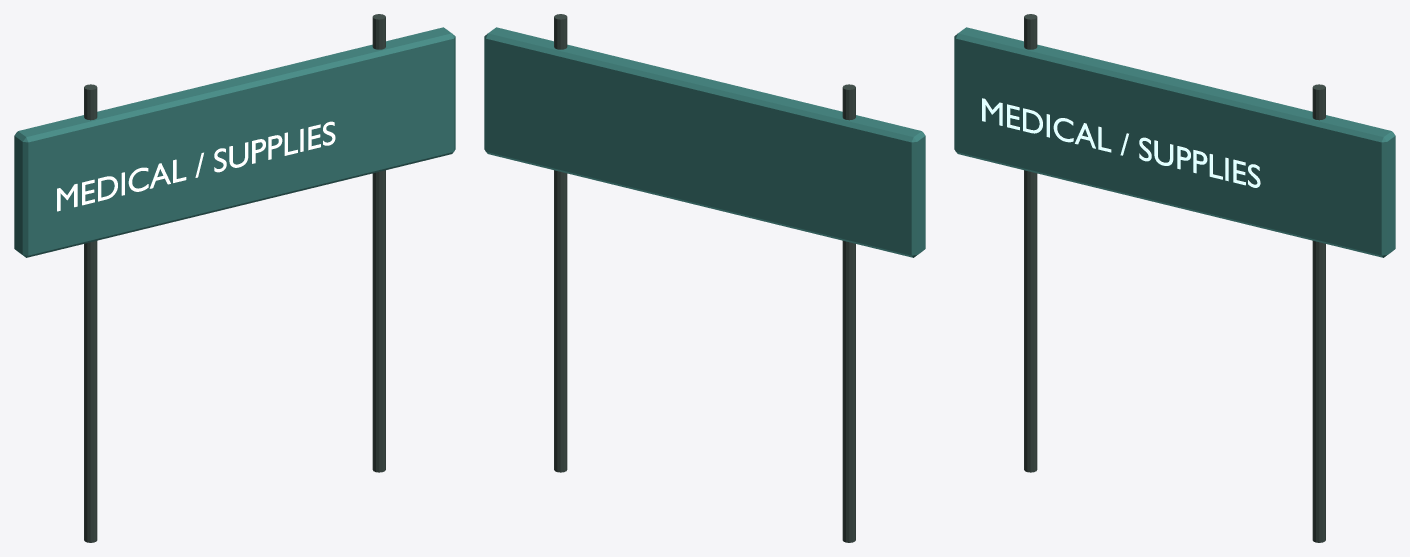
The model's file is pharmacy_sign.glb.
3 views of the same model, side by side, from view 1: azimuth 30°, elevation 25°; view 2: azimuth 150°, elevation 25°; view 3: azimuth 330°, elevation 25° (orthographic).
Visible parts, largest first — view 1: pharmacy_sign.001; view 2: pharmacy_sign.001; view 3: pharmacy_sign.001.
Boxes of the visible parts, left/top/right/bottom form: pharmacy_sign.001: left=14, top=14, right=455, bottom=542; pharmacy_sign.001: left=484, top=14, right=925, bottom=542; pharmacy_sign.001: left=954, top=14, right=1395, bottom=542.
Size of the model in its own units: 3 by 3 by 0.167.
